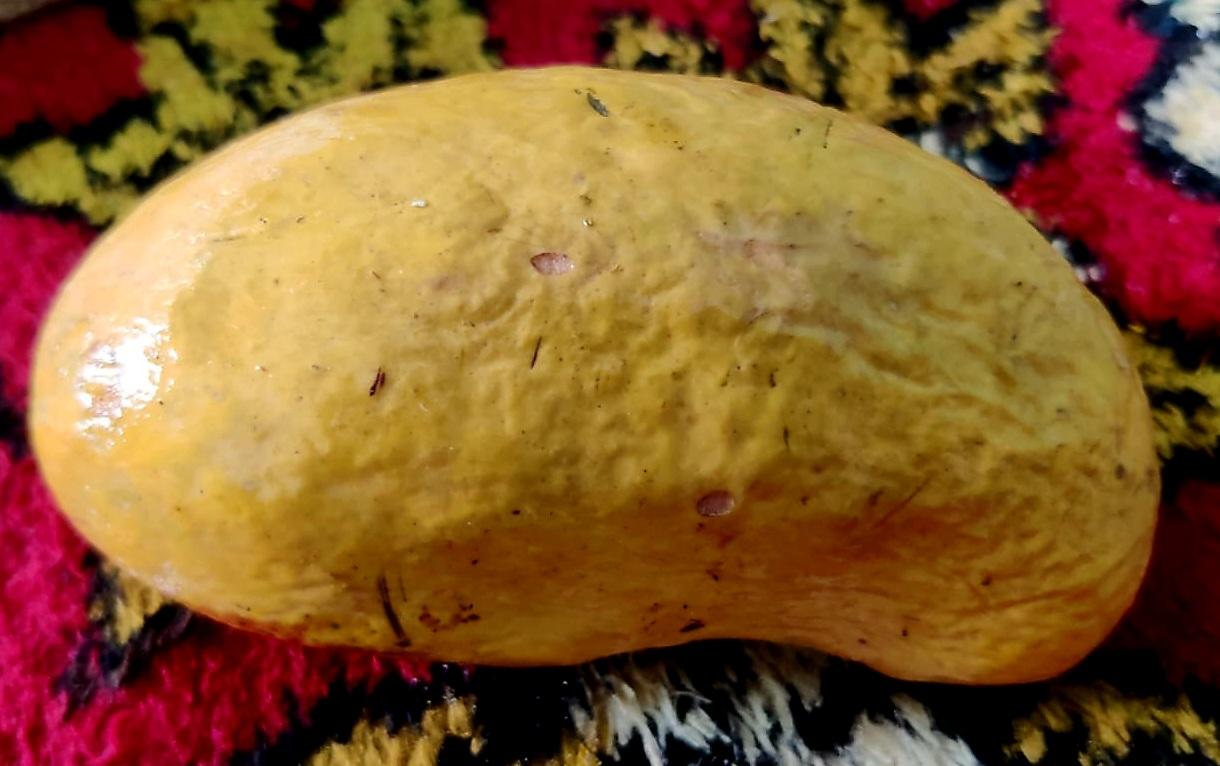mango: (26, 63, 1162, 686)
